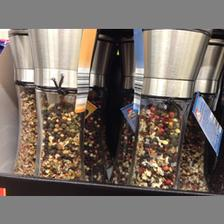Gewuerze: (126, 28, 210, 184), (27, 28, 97, 184)
